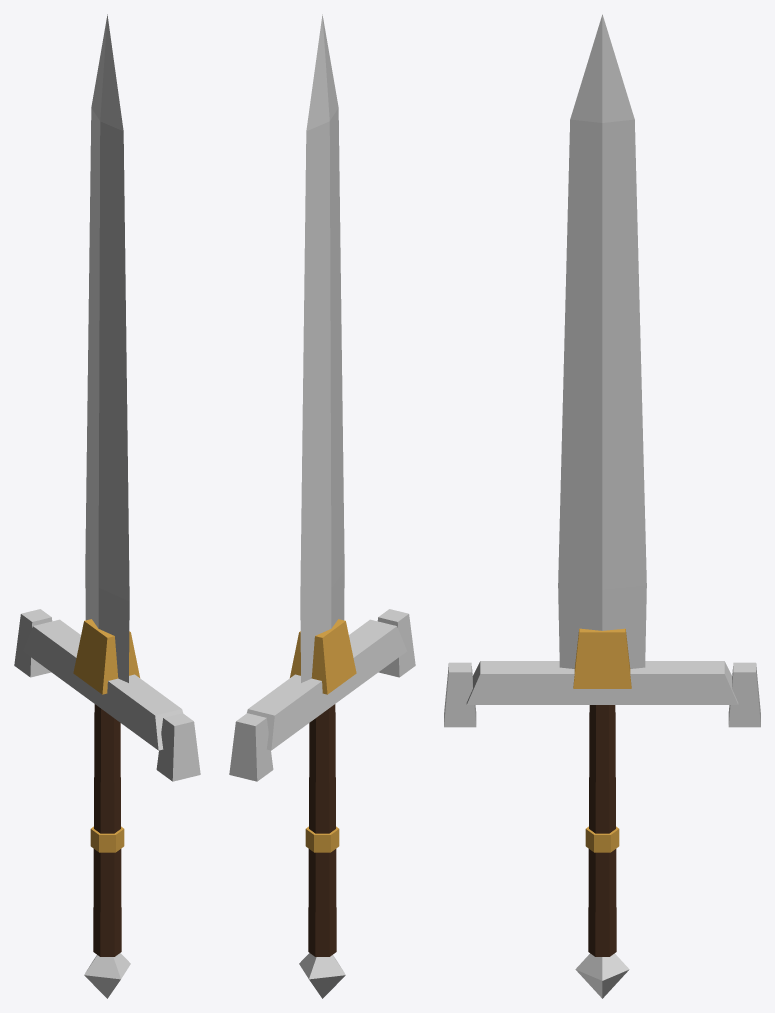
Rendered from weapon_greatsword.glb.
The picture shows the model from 3 angles, left to right: view 1: azimuth 30°, elevation 25°; view 2: azimuth 150°, elevation 25°; view 3: azimuth 270°, elevation 25°; orthographic projection.
Visible parts, largest first — view 1: weapon_greatsword; view 2: weapon_greatsword; view 3: weapon_greatsword.
Boxes of the visible parts, x1,y1,x2,y2 form: weapon_greatsword: [14, 14, 200, 998]; weapon_greatsword: [229, 14, 415, 998]; weapon_greatsword: [444, 14, 760, 998].
Size of the model in its own units: 0.084 by 1.68 by 0.49.
